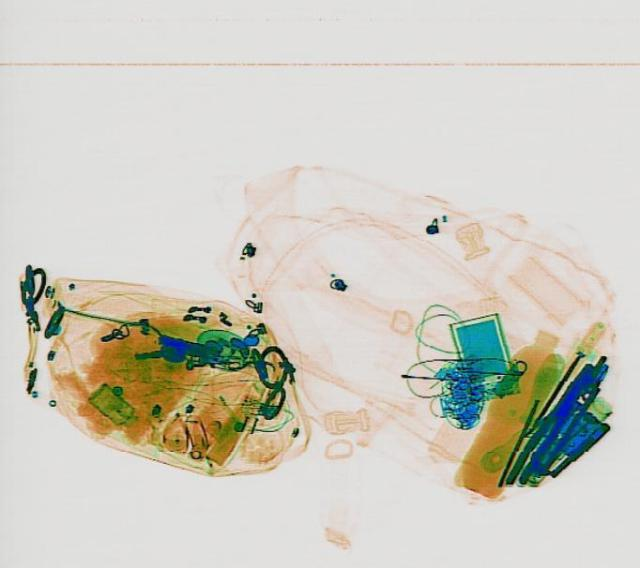Pliers: (502, 358, 600, 487)
